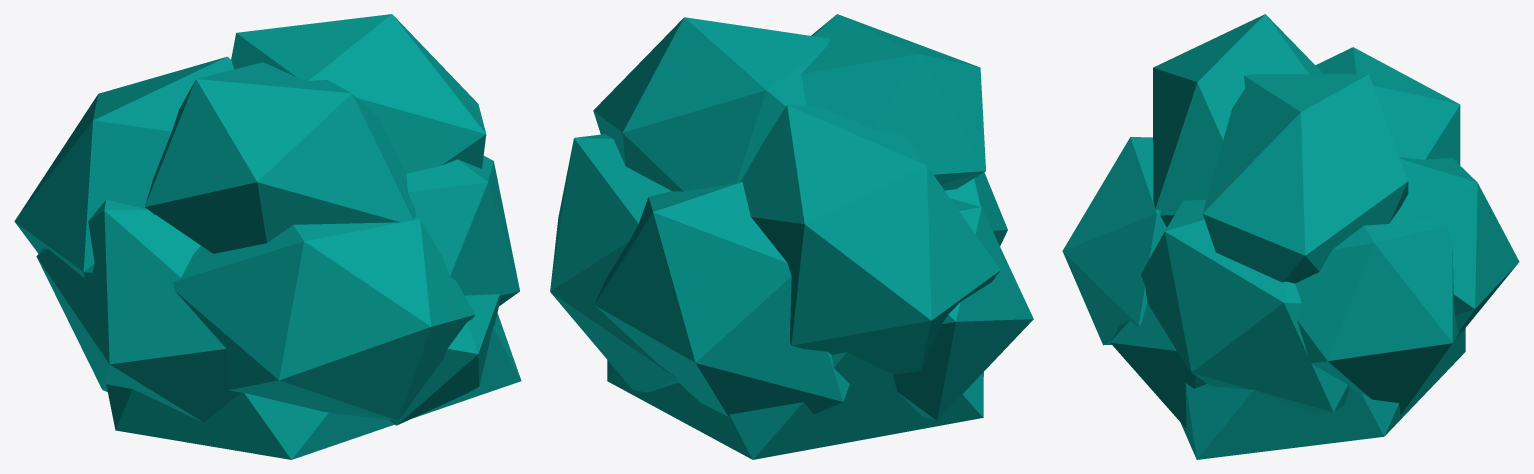
File: Bush_.FBX
3 views of the same model, side by side, from view 1: azimuth 30°, elevation 25°; view 2: azimuth 150°, elevation 25°; view 3: azimuth 270°, elevation 25° (orthographic). The views are drawn at different scales.
Parts seen in each view (by area): view 1: GeoSphere006; view 2: GeoSphere006; view 3: GeoSphere006.
Part boxes in pixels (left/top/right/bottom): GeoSphere006: left=14, top=14, right=521, bottom=459; GeoSphere006: left=550, top=14, right=1033, bottom=459; GeoSphere006: left=1062, top=14, right=1519, bottom=459.
Size of the model in its own units: 29.07 by 22.85 by 29.33.
